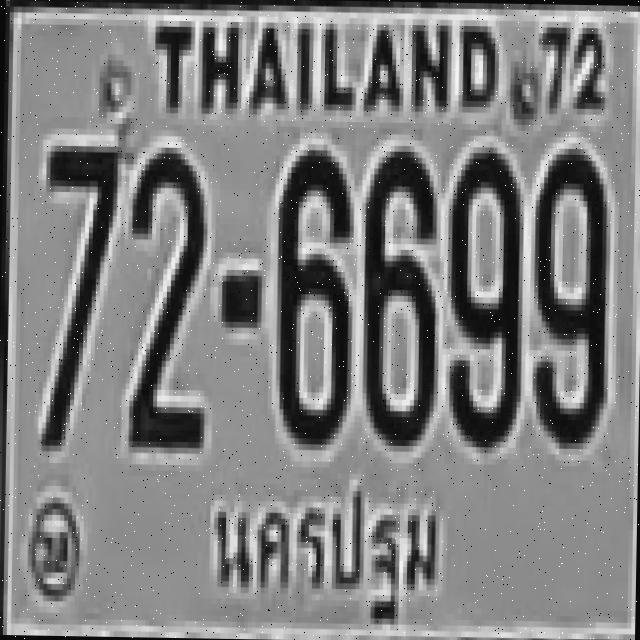0: (444, 146, 520, 442)
2: (124, 144, 204, 434), (124, 144, 204, 410)
6: (270, 144, 350, 438), (358, 145, 433, 440)
7: (42, 140, 118, 440), (43, 140, 118, 342)
9: (528, 146, 608, 440), (444, 146, 520, 442)
NakhonPathom: (199, 479, 454, 635)
